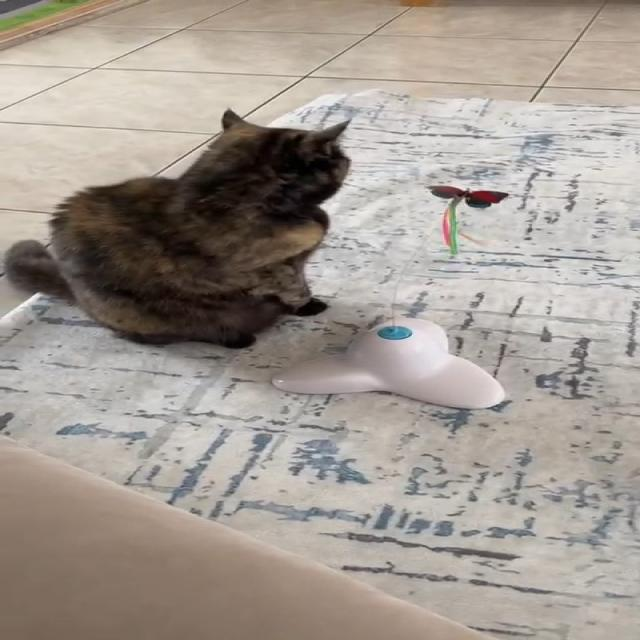authorized: (1, 106, 352, 350)
